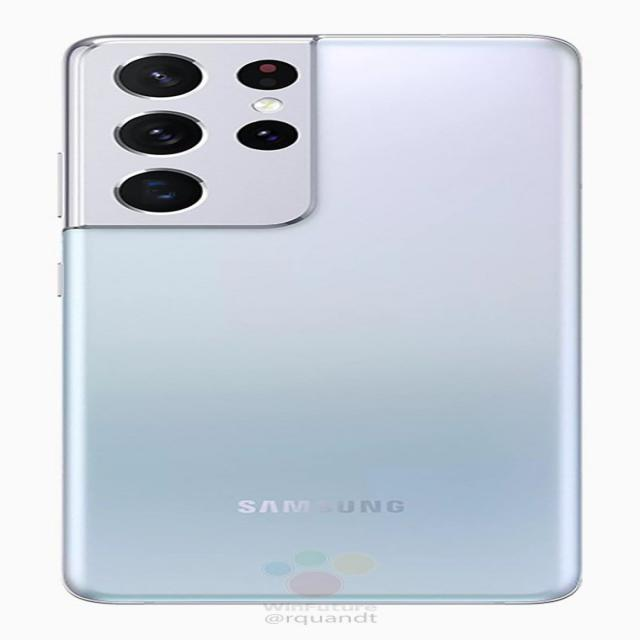phone: (53, 29, 592, 606)
